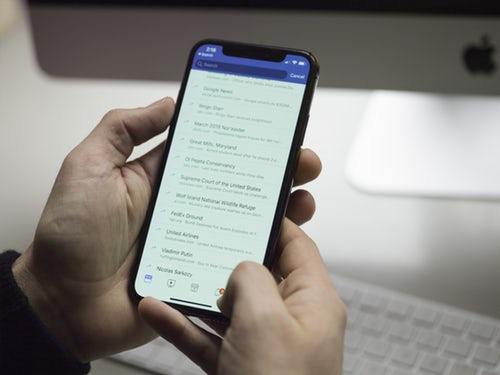phone: (132, 37, 320, 323)
